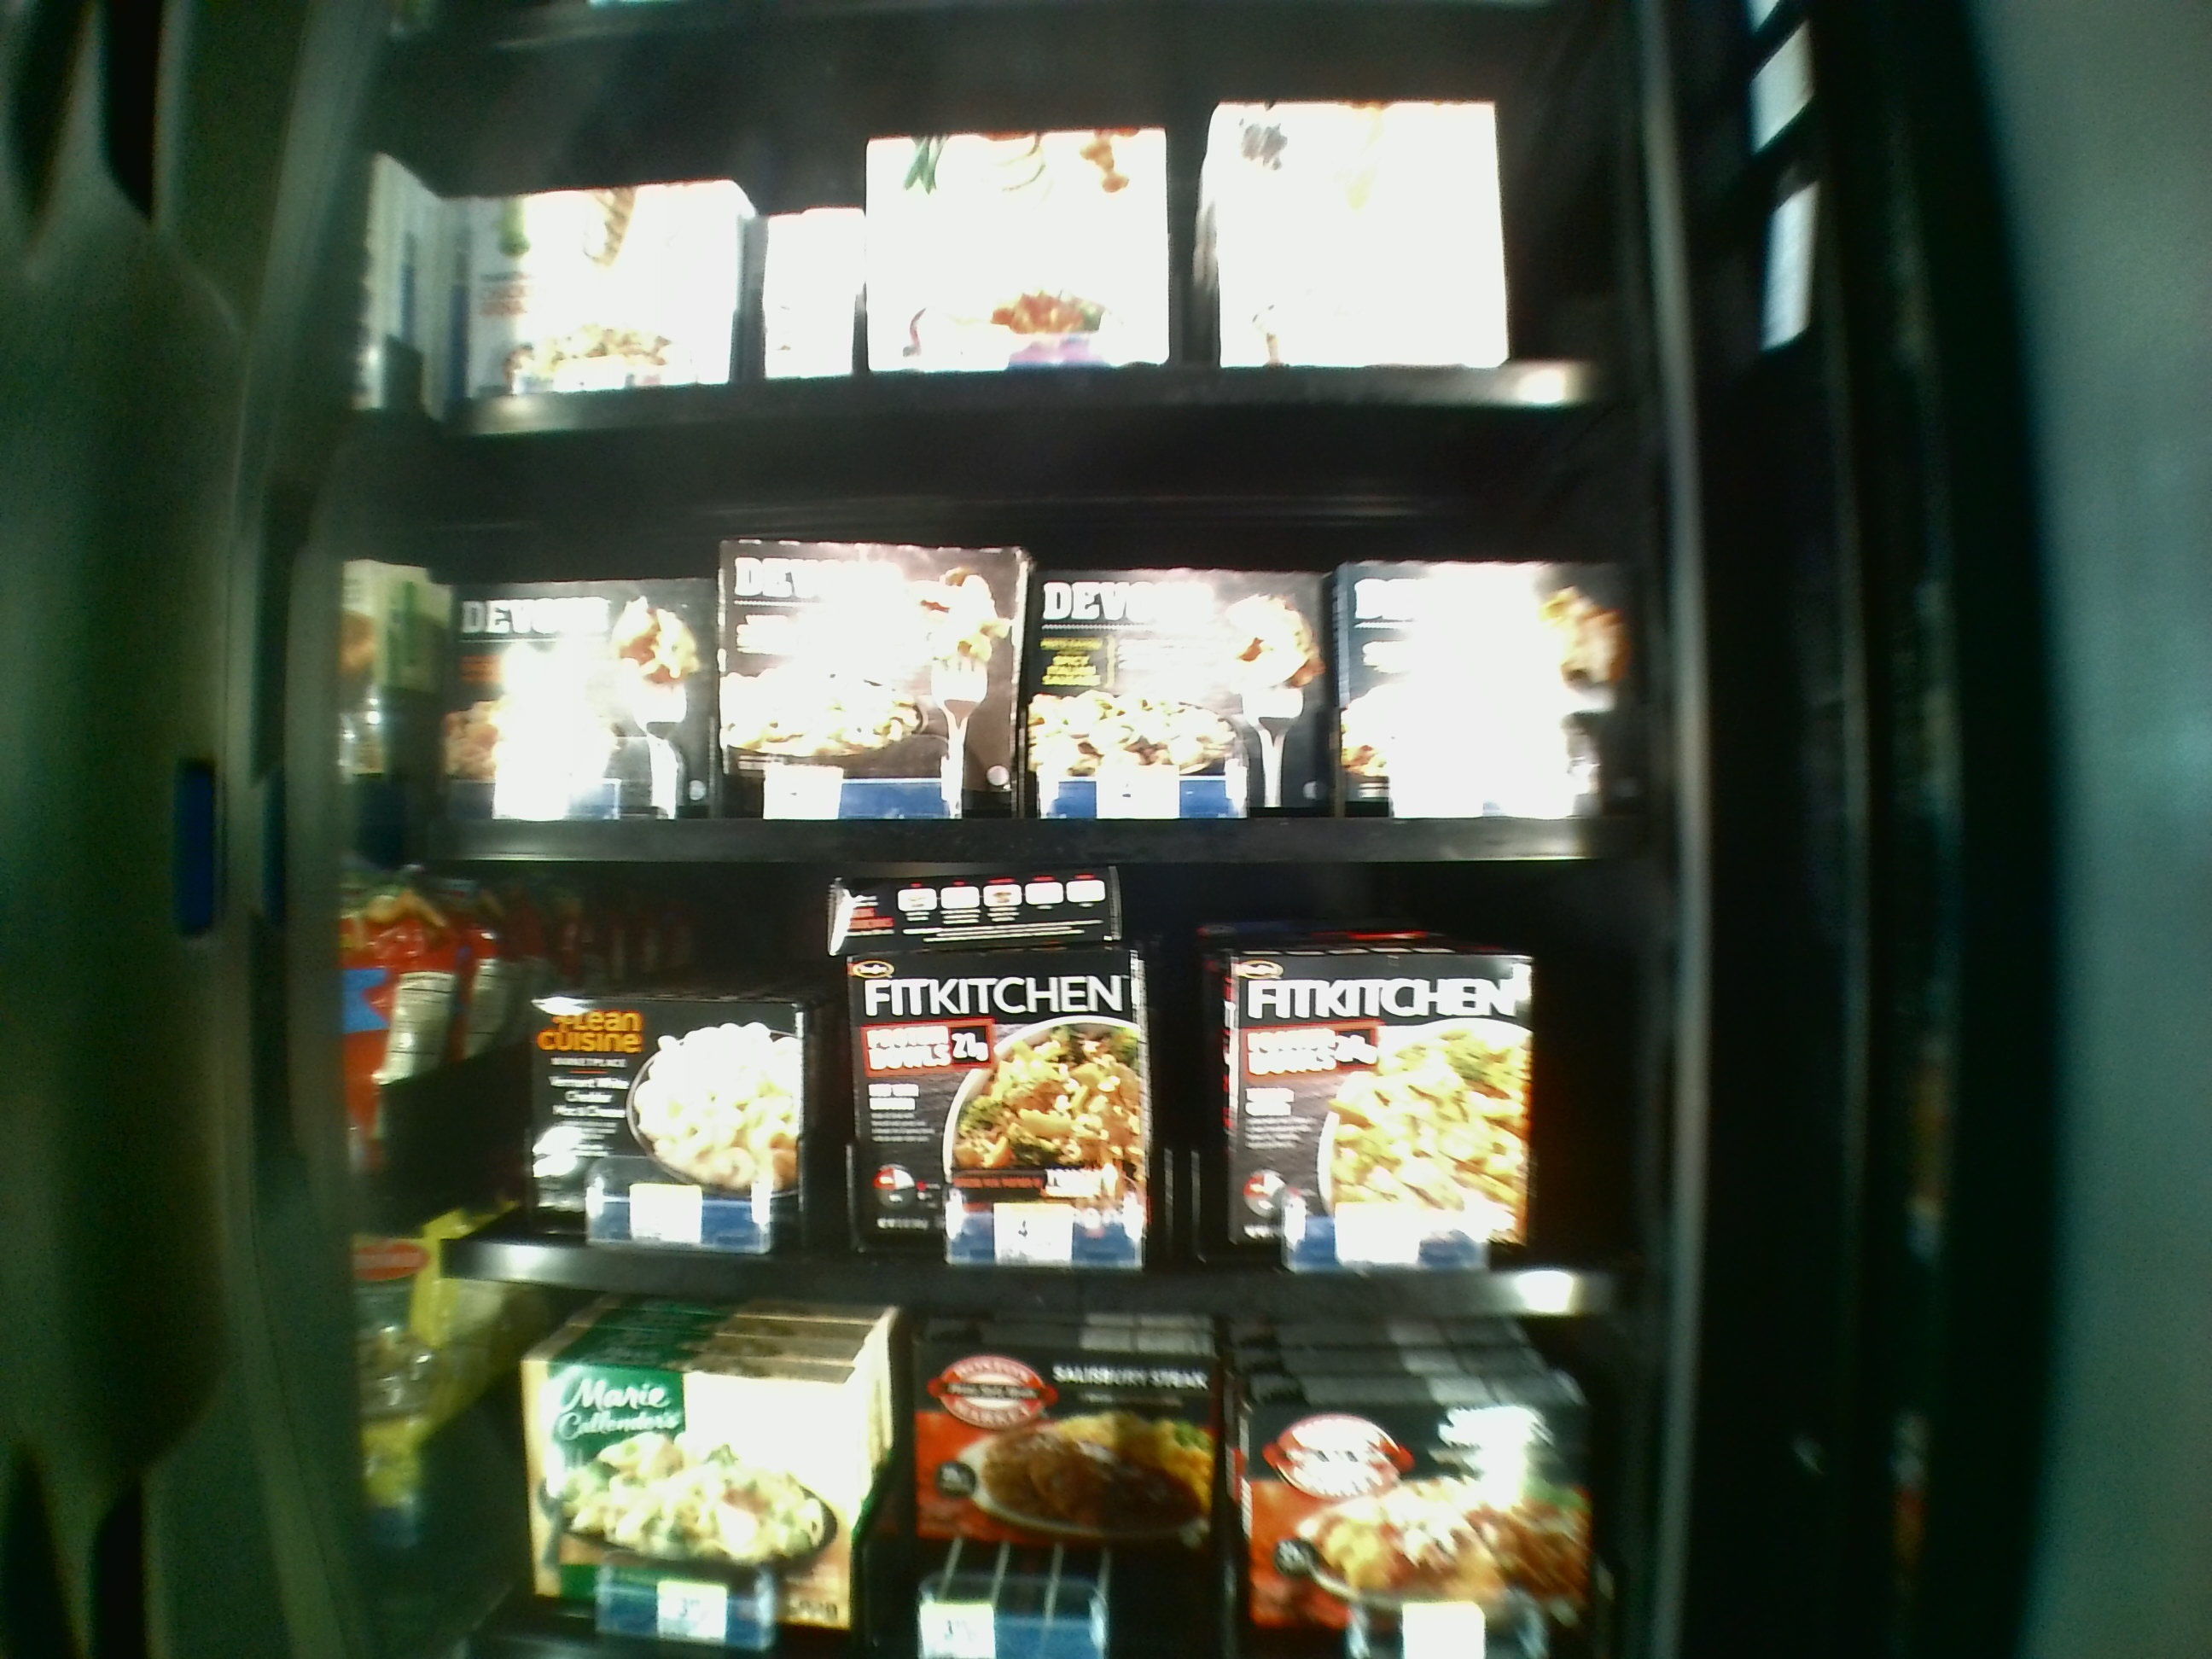shelf: (394, 446, 1641, 863), (409, 878, 1641, 1286)
